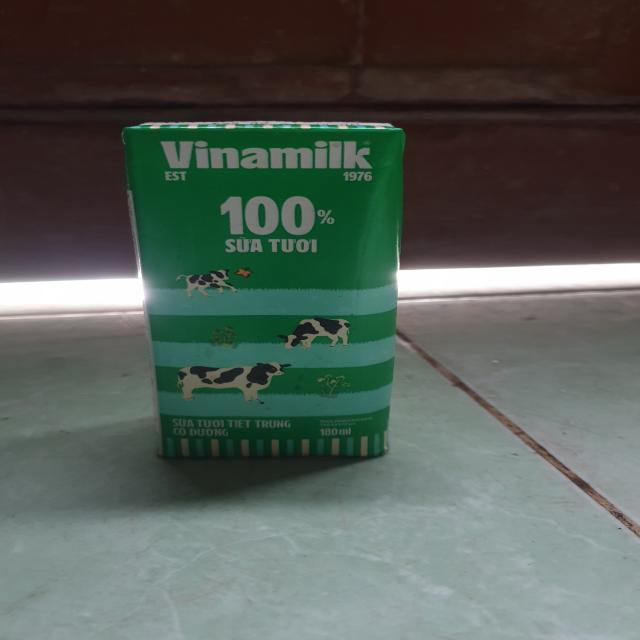Vina: (100, 120, 421, 466)
